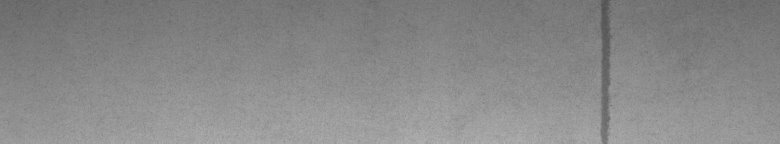hd: (595, 4, 616, 136)
